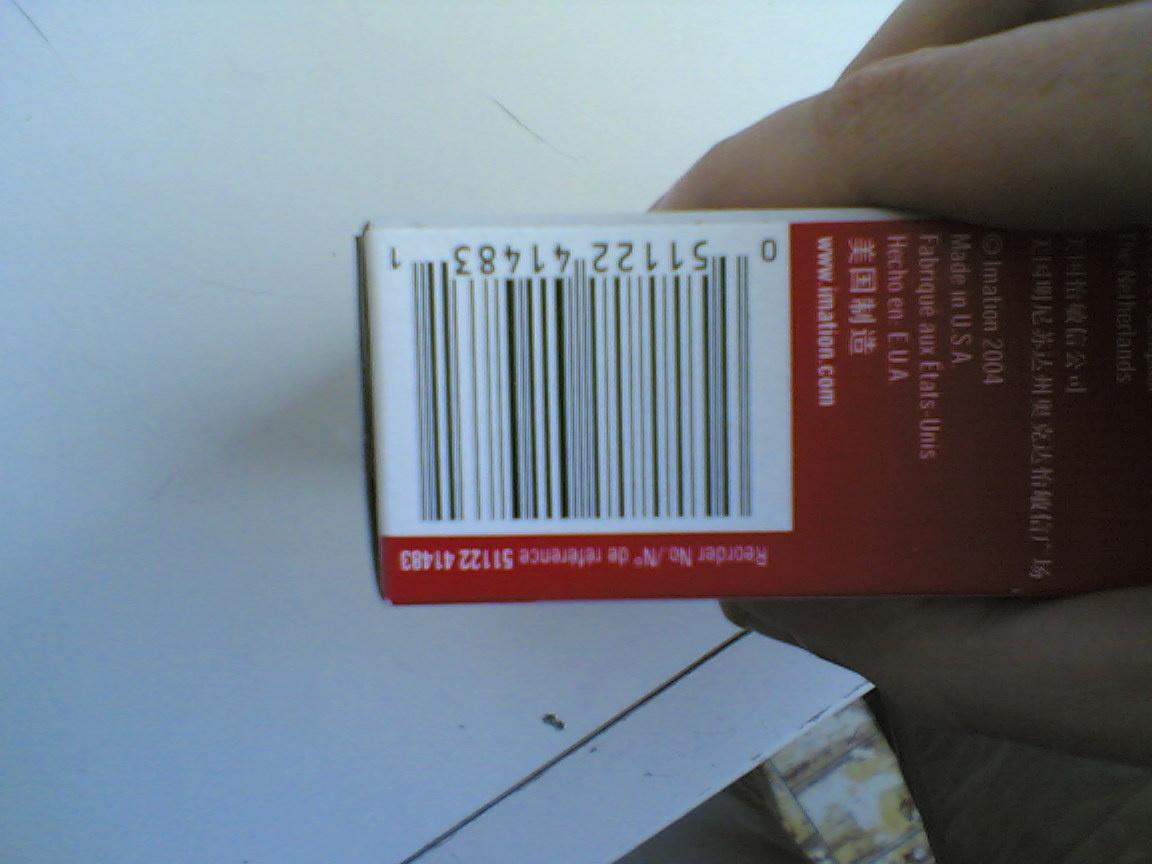Barcode: (365, 213, 790, 524)
